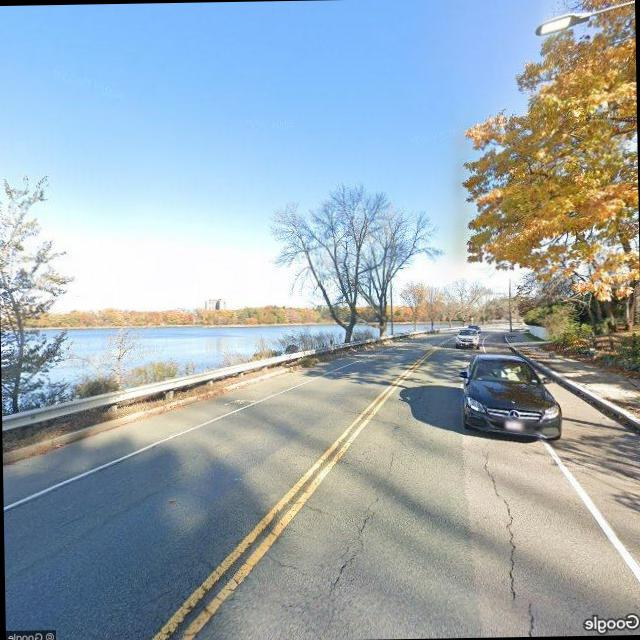pothole: (299, 429, 406, 612), (480, 444, 530, 626)
